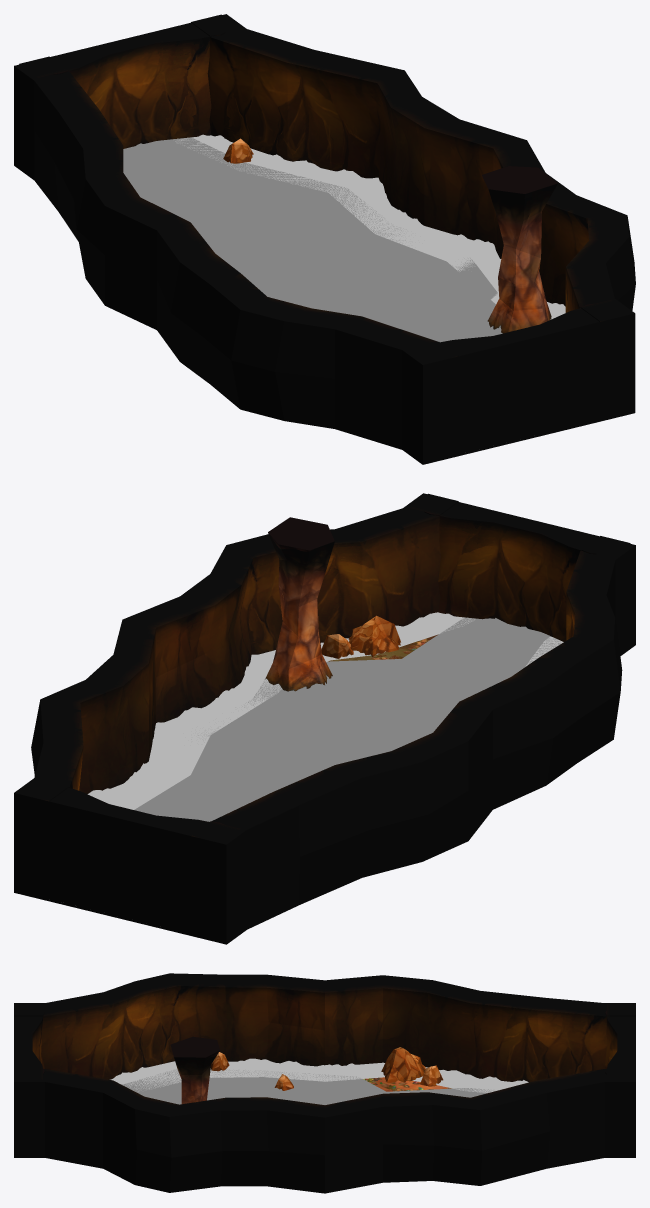
File: Dungeon_062_Road_002.fbx
3 renders of one model, top to bottom at view 1: azimuth 30°, elevation 25°; view 2: azimuth 150°, elevation 25°; view 3: azimuth 270°, elevation 25°, orthographic. The views are drawn at different scales.
Visible parts, largest first — view 1: Dun_062_Road_002_wall, Dun_062_RoadI_002_Nav, Dun_062_Door_002 (×2), Dan1_shadow, Dungeon_062_Object_04_Pillar; view 2: Dun_062_Road_002_wall, Dun_062_Door_002 (×2), Dun_062_RoadI_002_Nav, Dan1_shadow, Dungeon_062_Object_04_Pillar, Dun_062_Object_100; view 3: Dun_062_Road_002_wall, Dun_062_RoadI_002_Nav, Dan1_shadow, Dun_062_Door_002 (×2), Dungeon_062_Object_04_Pillar, Dun_062_Object_100, Dun_062_Road_002_ground.
Boxes of the visible parts, <box> form: Dun_062_Road_002_wall: <box>14,14,635,464</box>; Dun_062_RoadI_002_Nav: <box>123,137,502,342</box>; Dun_062_Door_002 (×2): <box>19,14,630,456</box>; Dan1_shadow: <box>173,134,565,319</box>; Dungeon_062_Object_04_Pillar: <box>482,166,557,333</box>; Dun_062_Road_002_wall: <box>14,493,635,944</box>; Dun_062_Door_002 (×2): <box>19,493,630,935</box>; Dun_062_RoadI_002_Nav: <box>134,617,562,821</box>; Dan1_shadow: <box>87,612,563,809</box>; Dungeon_062_Object_04_Pillar: <box>265,517,334,691</box>; Dun_062_Object_100: <box>321,615,400,658</box>; Dun_062_Road_002_wall: <box>14,973,635,1193</box>; Dun_062_RoadI_002_Nav: <box>121,1069,498,1104</box>; Dan1_shadow: <box>110,1058,528,1092</box>; Dun_062_Door_002 (×2): <box>14,1004,635,1079</box>; Dungeon_062_Object_04_Pillar: <box>170,1036,219,1104</box>; Dun_062_Object_100: <box>210,1047,443,1086</box>; Dun_062_Road_002_ground: <box>369,1077,451,1091</box>.
Size of the model in its own units: 8.54 by 2.96 by 15.
